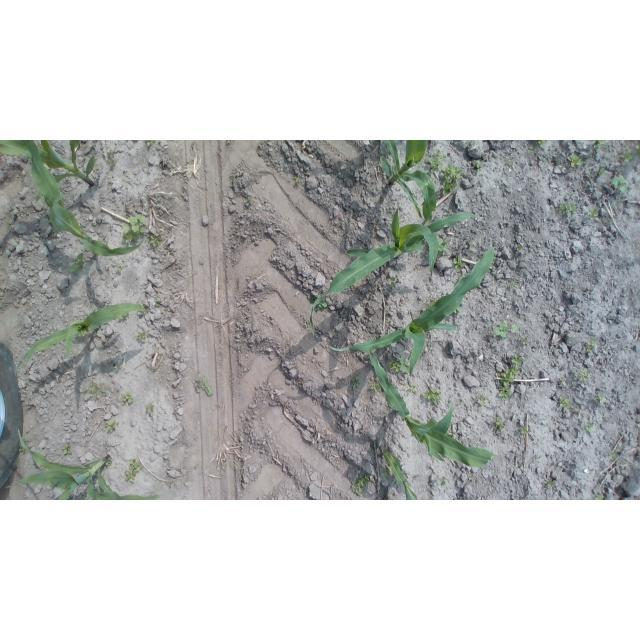Maize: (310, 205, 487, 339), (327, 247, 495, 378), (368, 351, 496, 470), (24, 140, 146, 256), (5, 428, 160, 500), (15, 303, 147, 376), (2, 141, 99, 204), (380, 140, 436, 222), (381, 448, 417, 500)
Weeds: (497, 353, 524, 400), (121, 214, 147, 245), (442, 163, 463, 193), (493, 320, 520, 338), (428, 149, 447, 174), (126, 457, 143, 483), (83, 380, 104, 401), (611, 173, 631, 195), (558, 198, 579, 218), (196, 374, 214, 397), (351, 473, 369, 496), (68, 252, 85, 272), (423, 388, 443, 405), (573, 367, 592, 384), (453, 256, 466, 273), (588, 205, 600, 223), (569, 155, 584, 168), (400, 354, 409, 374), (585, 336, 595, 354), (597, 389, 607, 407), (493, 416, 505, 431), (388, 358, 400, 373), (121, 392, 134, 405), (107, 149, 116, 167), (621, 152, 634, 164), (560, 396, 572, 409), (584, 421, 596, 434), (409, 383, 422, 395), (151, 234, 162, 248), (106, 419, 117, 433), (437, 238, 448, 251), (137, 331, 148, 344), (477, 393, 487, 407), (351, 375, 361, 389), (474, 160, 485, 172), (315, 301, 328, 311), (544, 478, 557, 488), (436, 475, 449, 485), (591, 141, 605, 150), (608, 451, 619, 462), (370, 381, 381, 392), (373, 438, 383, 450), (307, 294, 321, 302), (388, 278, 398, 289), (62, 445, 72, 455), (508, 281, 516, 292), (594, 492, 605, 500), (146, 403, 154, 414), (534, 141, 546, 148), (384, 467, 391, 479), (5, 220, 12, 232), (495, 430, 505, 438), (635, 142, 640, 157), (516, 245, 525, 253), (599, 166, 606, 176), (105, 457, 112, 467), (521, 425, 528, 435), (19, 445, 25, 456), (521, 338, 530, 345), (534, 453, 541, 461), (155, 300, 162, 308), (295, 176, 301, 185), (528, 146, 535, 153), (506, 158, 512, 166), (145, 140, 153, 146), (118, 316, 126, 322), (52, 228, 57, 237), (162, 308, 168, 315), (114, 365, 120, 371), (118, 265, 123, 272), (167, 483, 174, 488), (481, 153, 487, 158), (559, 377, 565, 382), (247, 196, 251, 203), (331, 174, 336, 179), (375, 217, 380, 222), (458, 308, 462, 313), (194, 466, 198, 471), (339, 222, 343, 226), (454, 311, 456, 314)
